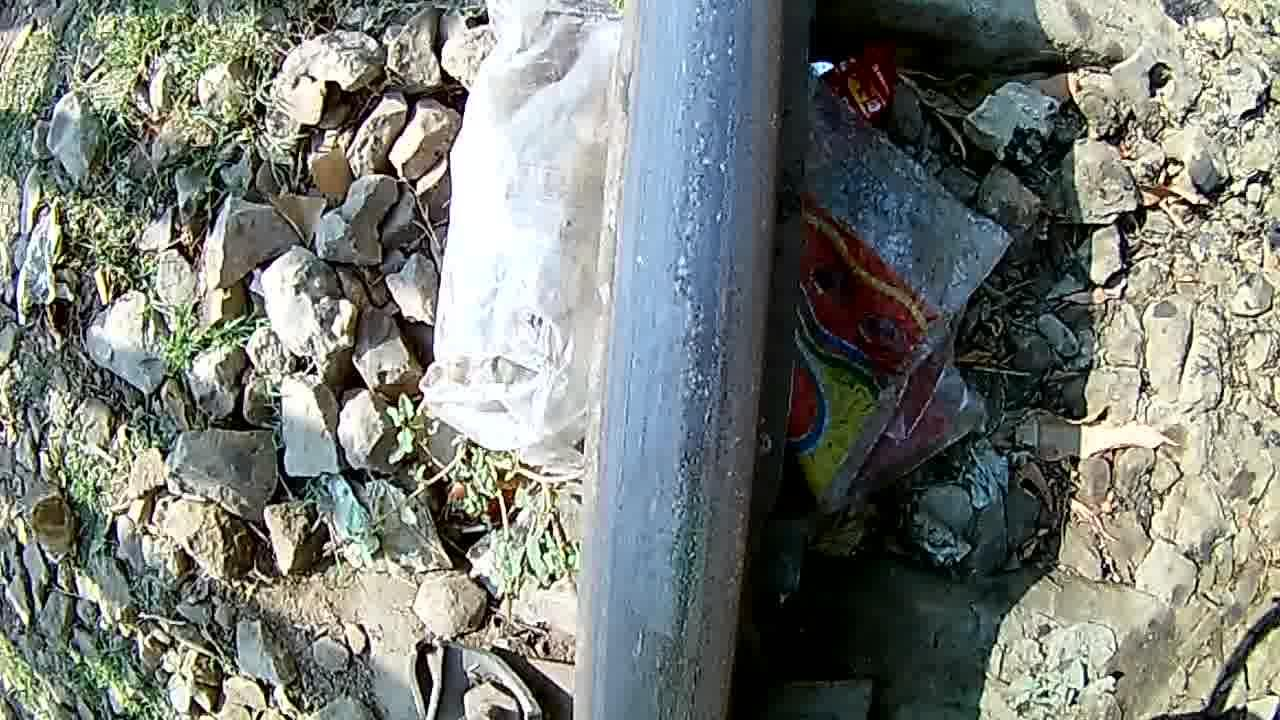clip_missing: (628, 4, 728, 720)
